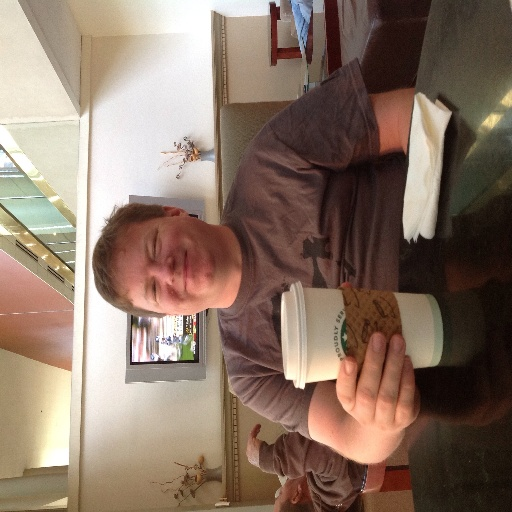hand: (351, 332, 418, 421), (244, 421, 262, 467)
